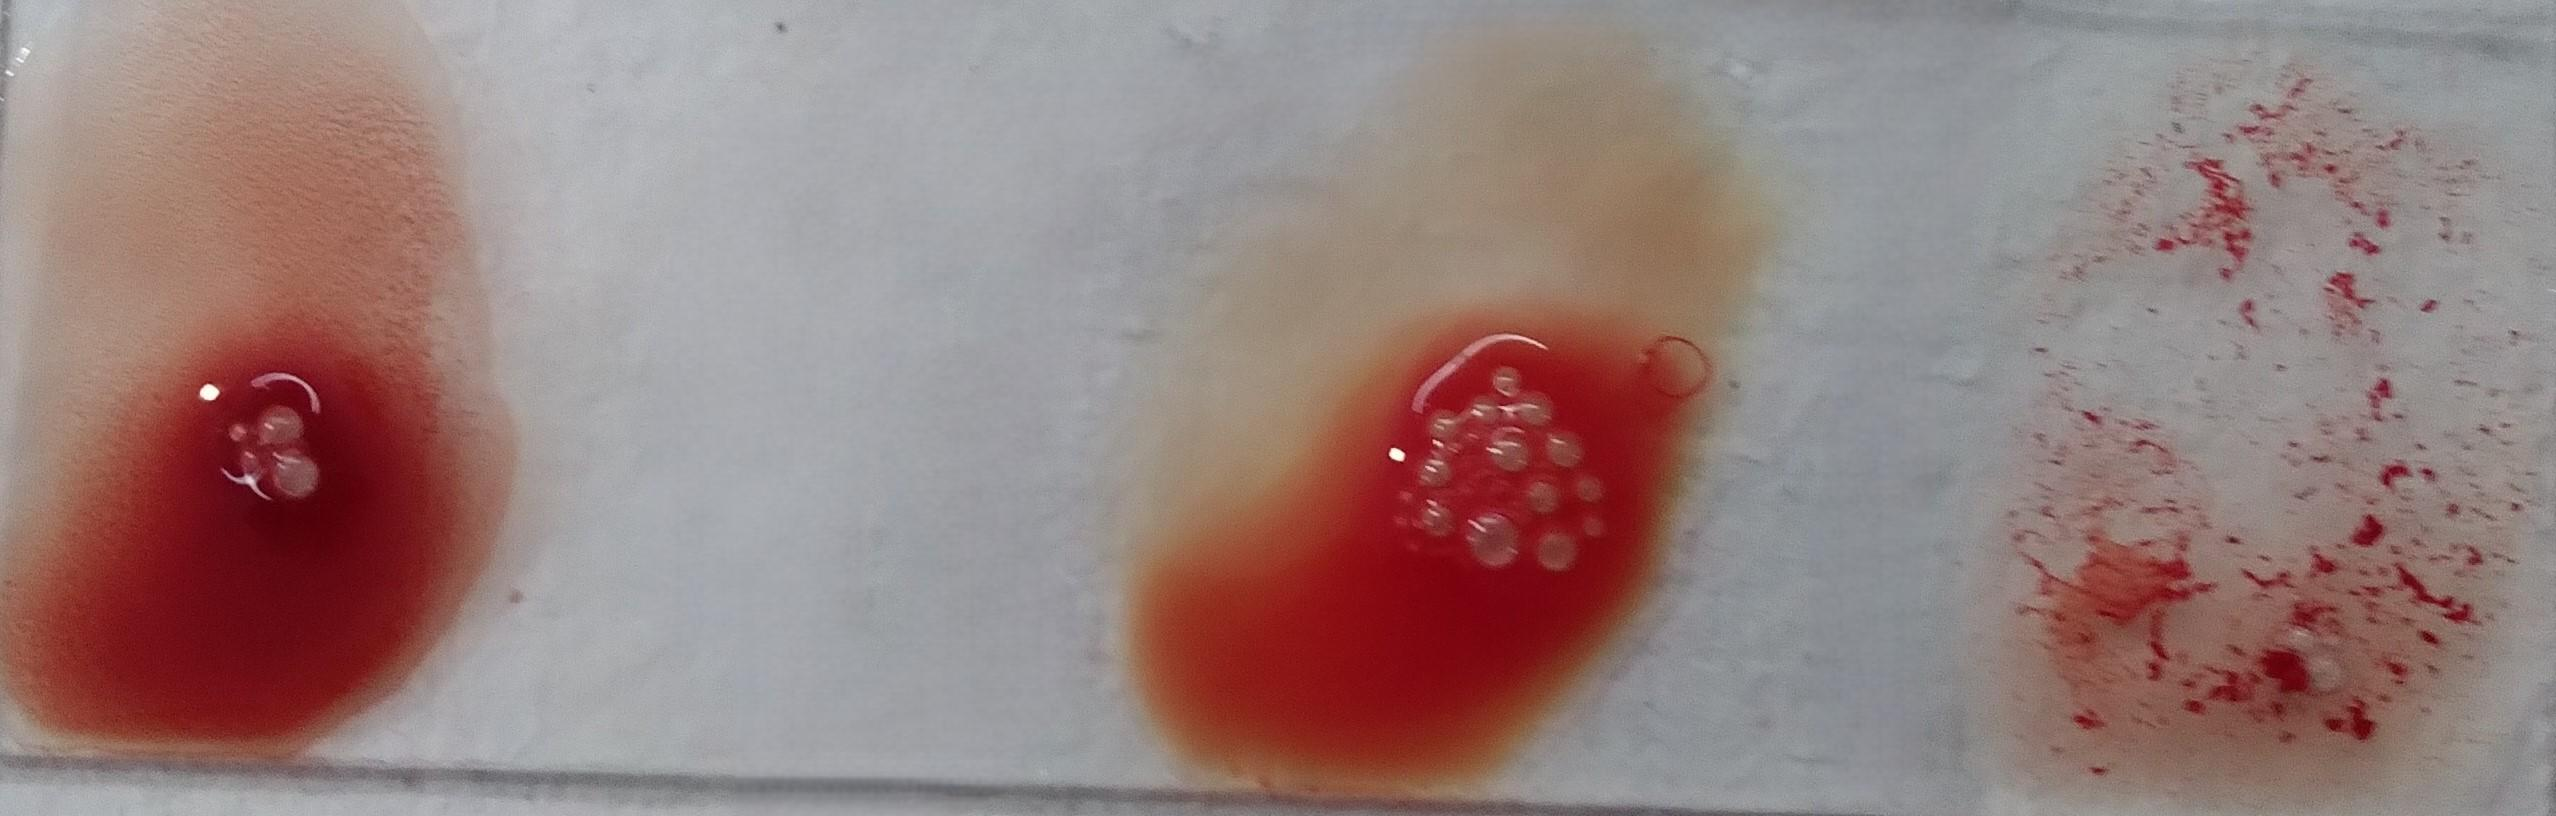D: (1985, 70, 2536, 816)
